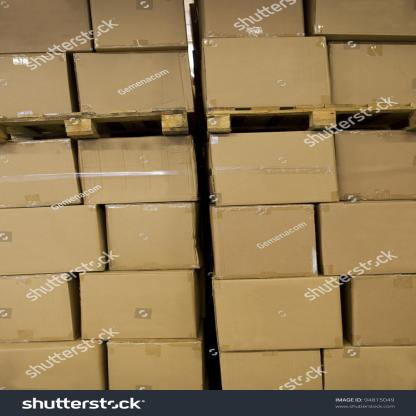box: (215, 278, 344, 354), (202, 34, 332, 106), (211, 130, 336, 204), (79, 271, 200, 340), (78, 135, 200, 202), (212, 204, 316, 280), (72, 52, 194, 112), (0, 205, 105, 274), (321, 200, 416, 274), (105, 203, 199, 271), (332, 129, 416, 200), (0, 137, 80, 207), (0, 341, 107, 389), (330, 42, 413, 103), (105, 340, 203, 390), (0, 0, 92, 53), (0, 276, 73, 340), (92, 0, 189, 48), (353, 275, 416, 347), (0, 53, 70, 115), (219, 351, 322, 391), (323, 348, 416, 391), (314, 0, 416, 36), (205, 0, 303, 36)
